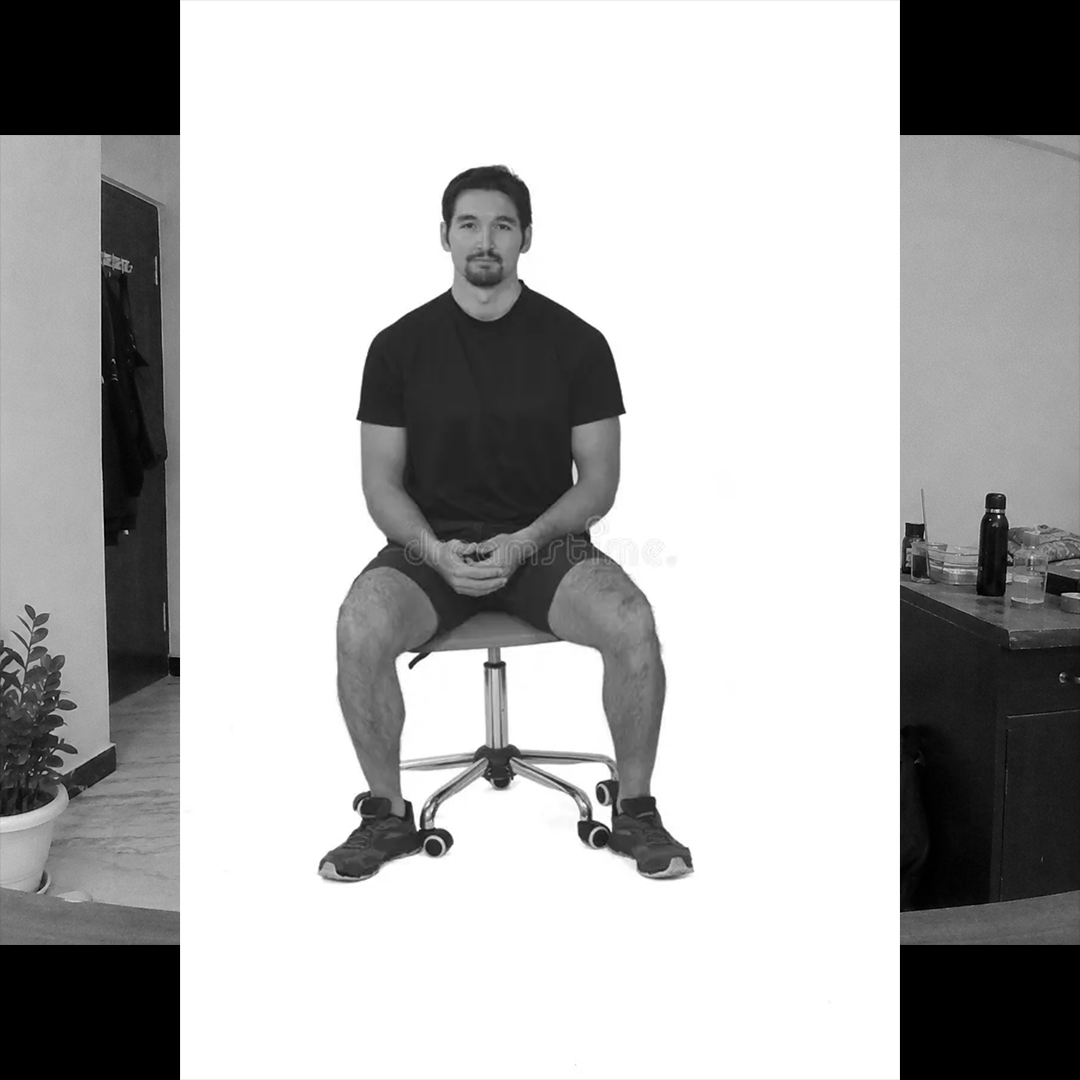Focused: (328, 94, 711, 662)
